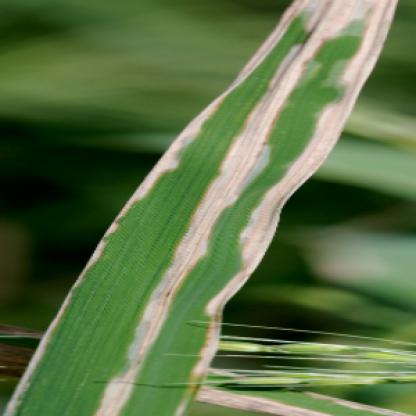Blight: (2, 1, 402, 416)
